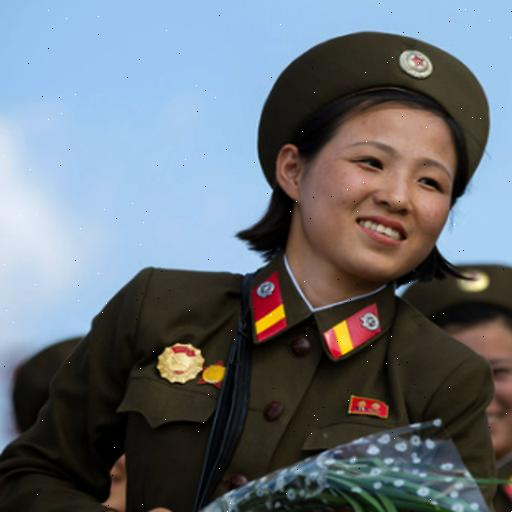north army: (119, 36, 487, 512)
